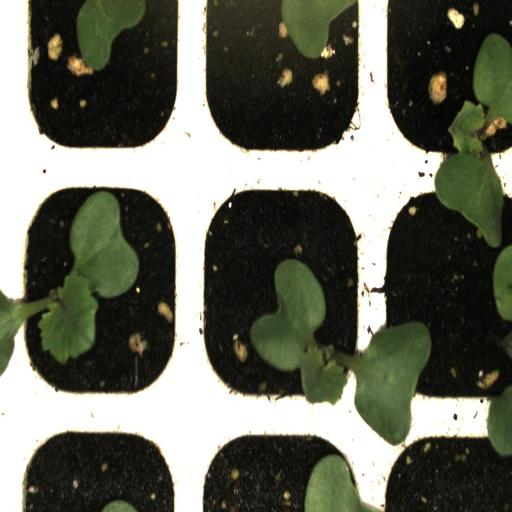seedling: (189, 169, 373, 420), (5, 168, 191, 414), (374, 0, 512, 178)
